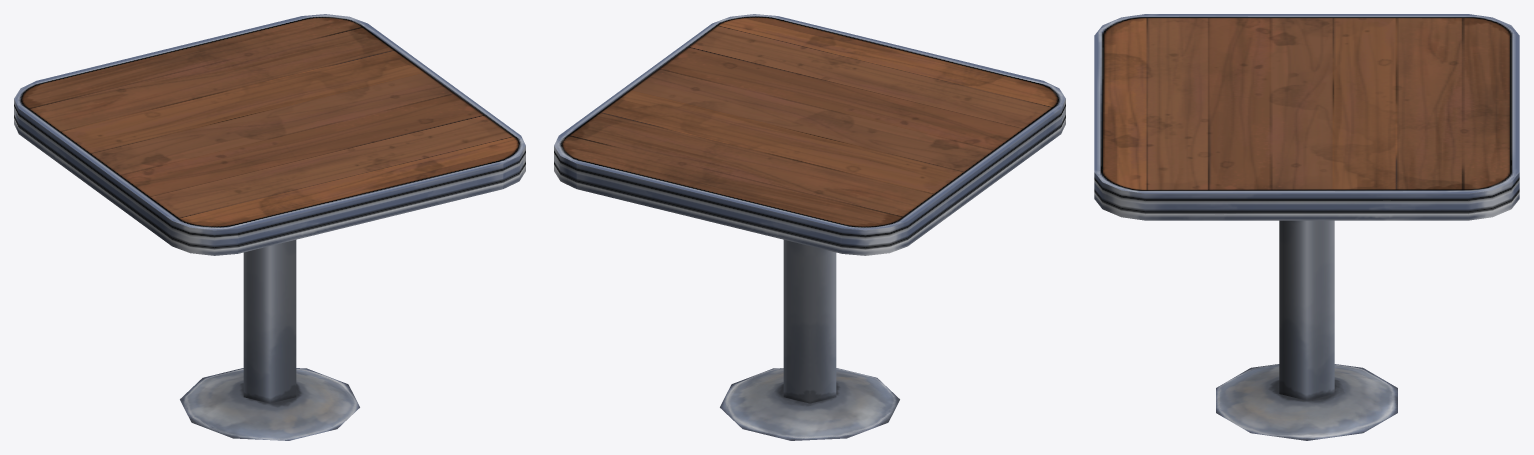
File: table_04.fbx
3 renders of one model, left to right at view 1: azimuth 30°, elevation 25°; view 2: azimuth 150°, elevation 25°; view 3: azimuth 270°, elevation 25°, orthographic. The views are drawn at different scales.
Parts seen in each view (by area): view 1: table_04; view 2: table_04; view 3: table_04.
Boxes of the visible parts, x1=… form: table_04: x1=14, y1=14, x2=525, y2=440; table_04: x1=554, y1=14, x2=1065, y2=440; table_04: x1=1094, y1=14, x2=1519, y2=440.
Size of the model in its own units: 100 by 77 by 100.
